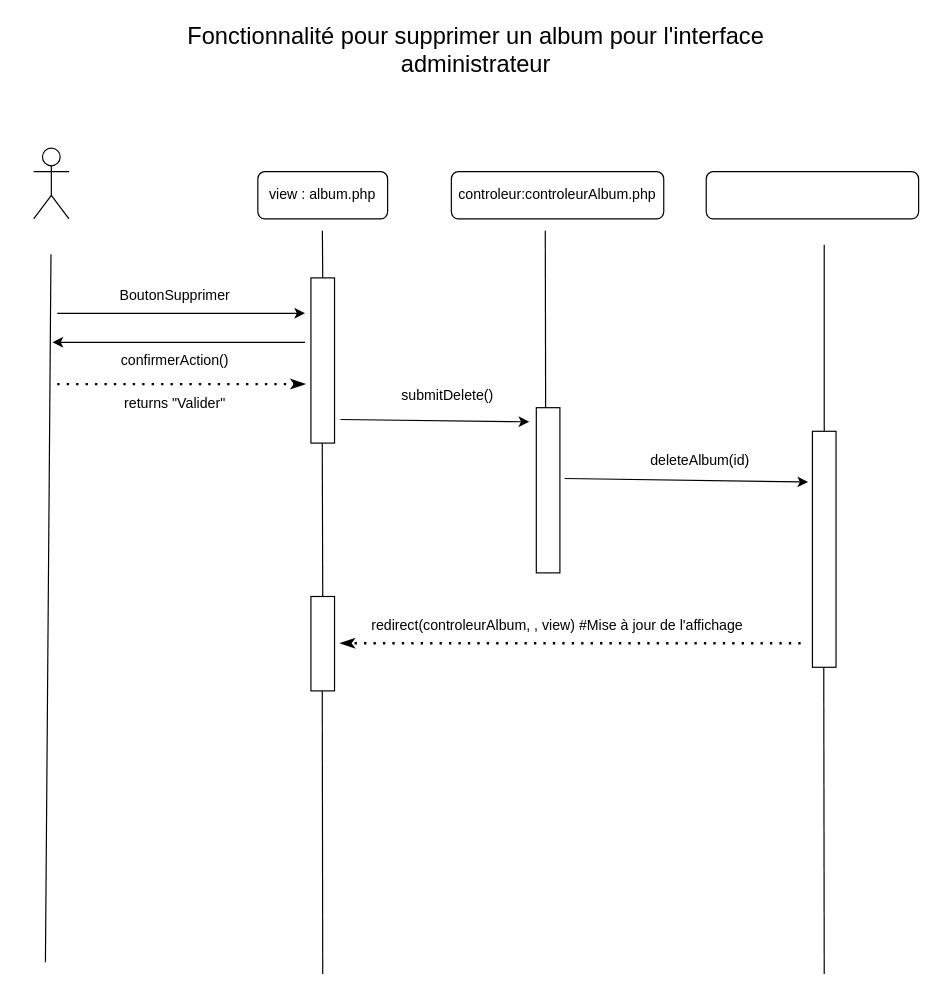
Some shapes in this 939 by 996 pixel diagram are drawn without their labels. Each missing label, with the centre of its shape:
"modele: DBAlbum.php" belongs at [812,195].
"Utilisateur" belongs at [50,183].
